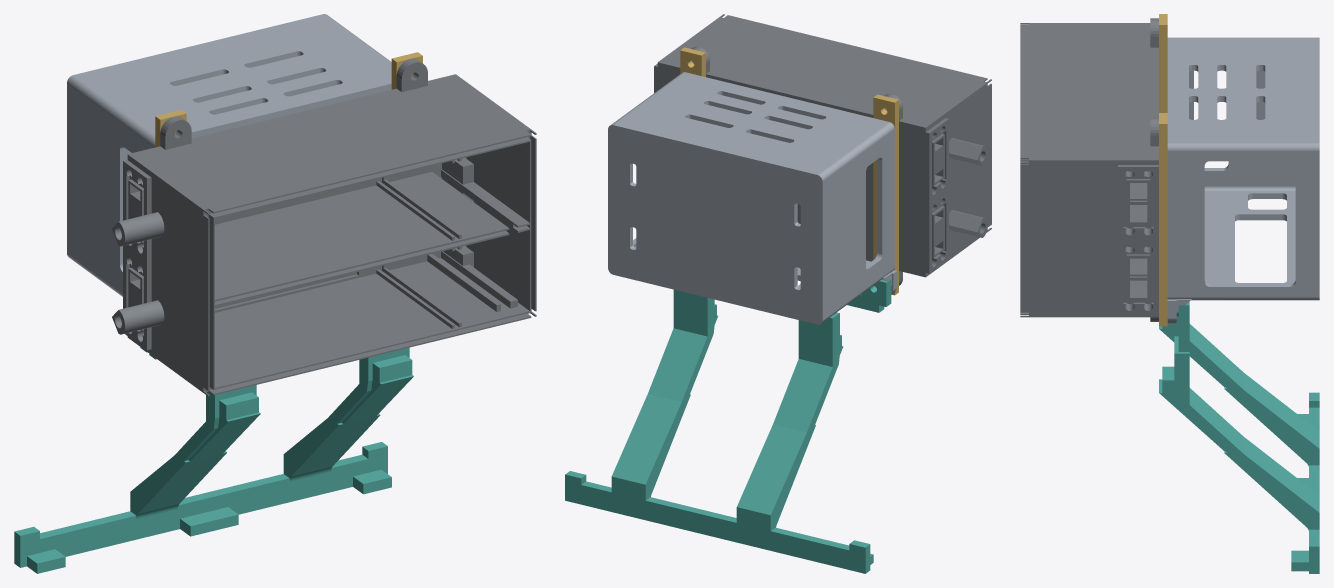
Rendered from assembly.glb.
3 views of the same model, side by side, from view 1: azimuth 30°, elevation 25°; view 2: azimuth 150°, elevation 25°; view 3: azimuth 270°, elevation 25° (orthographic). The views are drawn at different scales.
Visible parts, largest first — view 1: chamber, pi, stand, frame; view 2: pi, chamber, stand, frame; view 3: chamber, pi, stand, frame.
Part boxes in pixels (x1,y1,x2,y2): chamber: (112,58,536,396); pi: (67,14,391,296); stand: (14,347,413,573); frame: (155,52,422,147); pi: (608,72,897,324); chamber: (654,14,991,285); stand: (565,279,891,573); frame: (680,47,898,295); chamber: (1020,18,1158,321); pi: (1167,37,1319,324); stand: (1159,302,1319,573); frame: (1159,14,1167,326).
Bounding box in the file's own units: 177 × 218 × 138.
